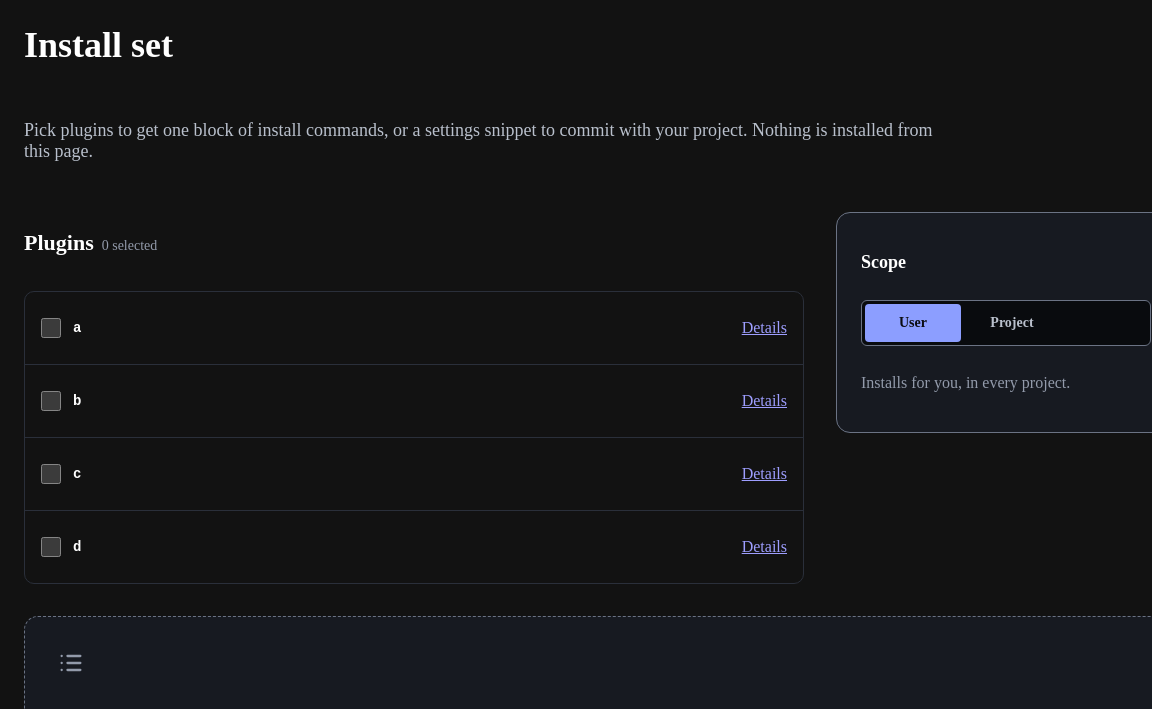
InstallPage › warns about a dependency that is not in the catalog (AC-38b)
What coordinates should you click on to do the following:
click the checkbox labelled "d"
I would click on:
 (51, 547)
Its box is [41,537,61,557].
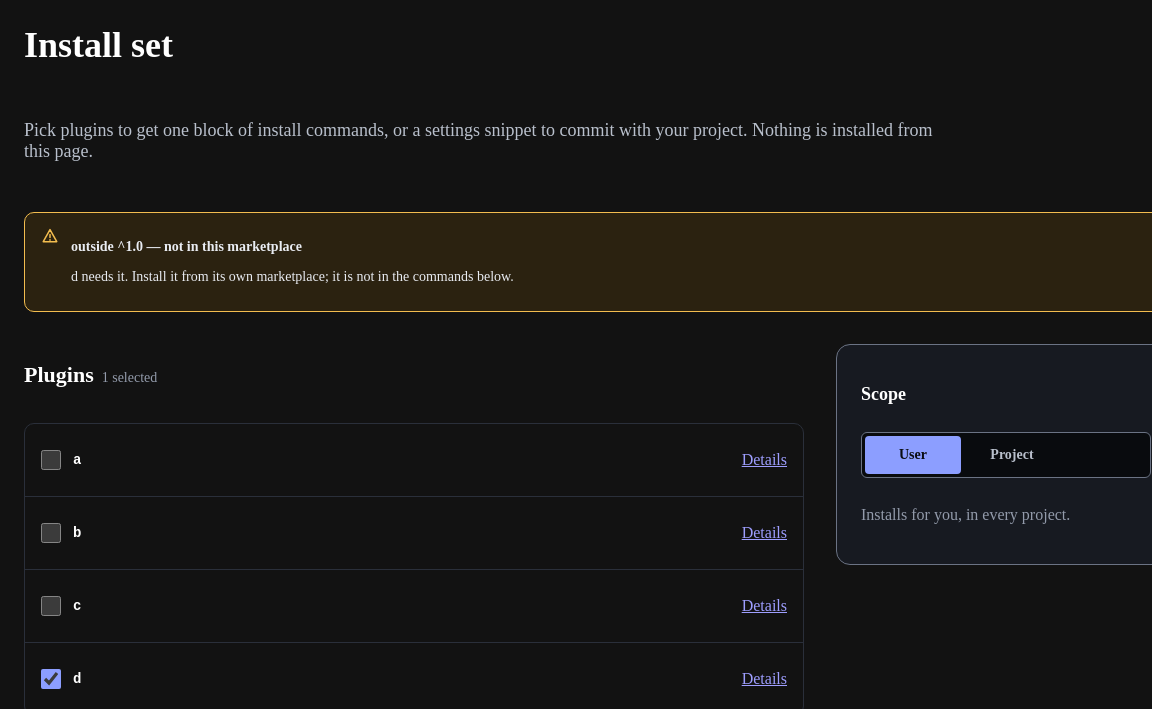
Check: the element with class "warn" shows "outside ^1.0 — not in this marketplace", box [71,239,302,254]
Check: the element with class "warn" shows "d needs it", box [71,269,514,284]
